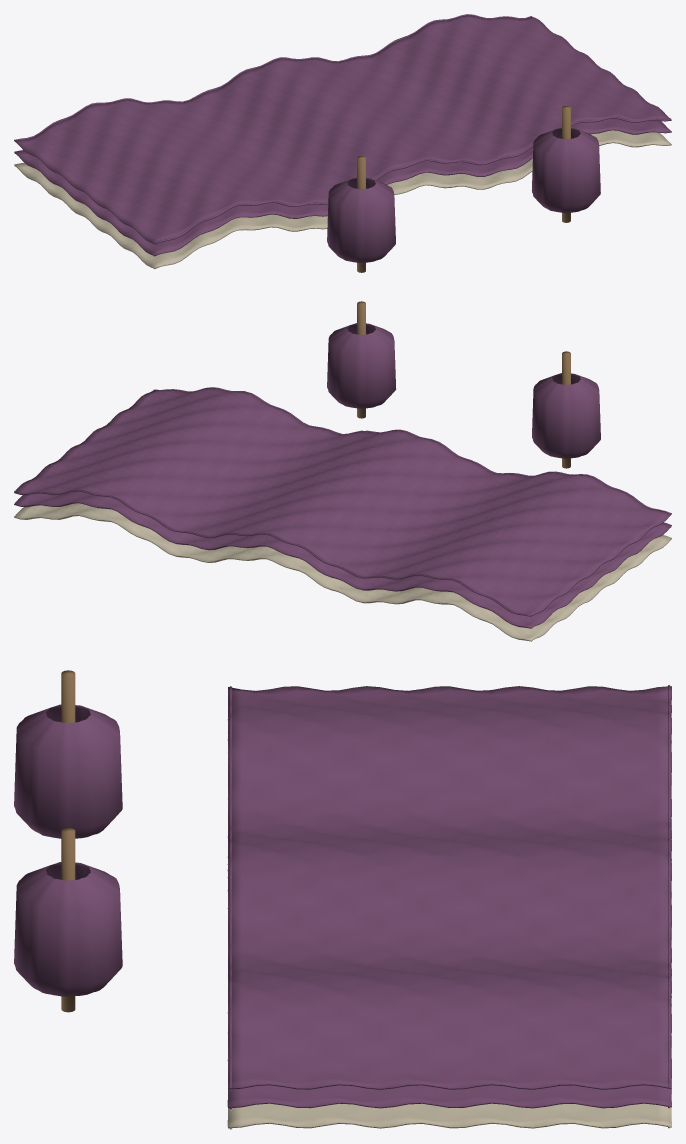
File: paul-textiles.glb
3 renders of one model, top to bottom at view 1: azimuth 30°, elevation 25°; view 2: azimuth 150°, elevation 25°; view 3: azimuth 270°, elevation 25°, orthographic. The views are drawn at different scales.
Visible parts, largest first — view 1: paul-textiles-paul-purple-comparison, paul-textiles-paul-undyed-comparison, paul-textiles-paul-ship-timber; view 2: paul-textiles-paul-purple-comparison, paul-textiles-paul-undyed-comparison, paul-textiles-paul-ship-timber; view 3: paul-textiles-paul-purple-comparison, paul-textiles-paul-undyed-comparison, paul-textiles-paul-ship-timber.
Boxes of the visible parts, bbox=[...] form: paul-textiles-paul-purple-comparison: bbox=[14, 14, 671, 262]; paul-textiles-paul-undyed-comparison: bbox=[14, 130, 671, 269]; paul-textiles-paul-ship-timber: bbox=[357, 106, 570, 272]; paul-textiles-paul-purple-comparison: bbox=[14, 323, 671, 628]; paul-textiles-paul-undyed-comparison: bbox=[14, 503, 671, 641]; paul-textiles-paul-ship-timber: bbox=[357, 301, 570, 468]; paul-textiles-paul-purple-comparison: bbox=[14, 685, 671, 1109]; paul-textiles-paul-undyed-comparison: bbox=[227, 739, 671, 1129]; paul-textiles-paul-ship-timber: bbox=[61, 670, 75, 1012].
Size of the model in its own units: 1.06 by 0.2224 by 0.7416.
